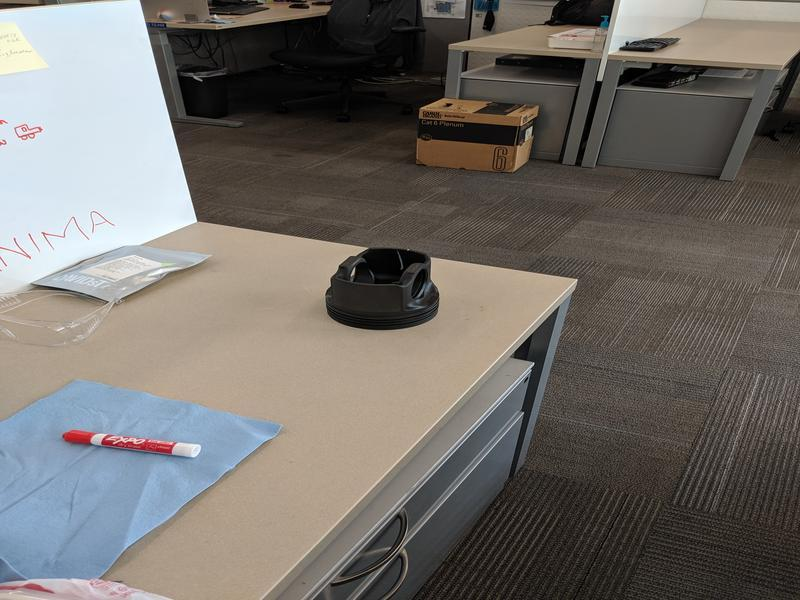piston: (322, 243, 445, 335)
